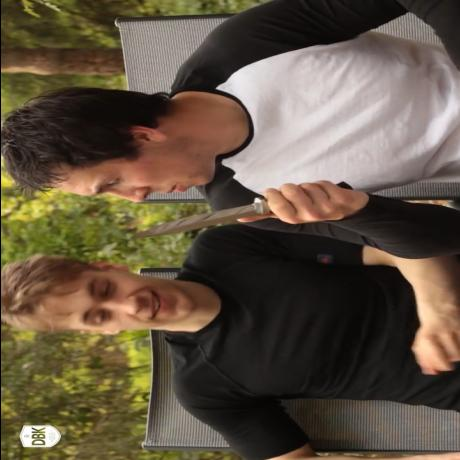1: (0, 0, 459, 259), (0, 222, 460, 460)
weapon: (134, 198, 276, 238)
